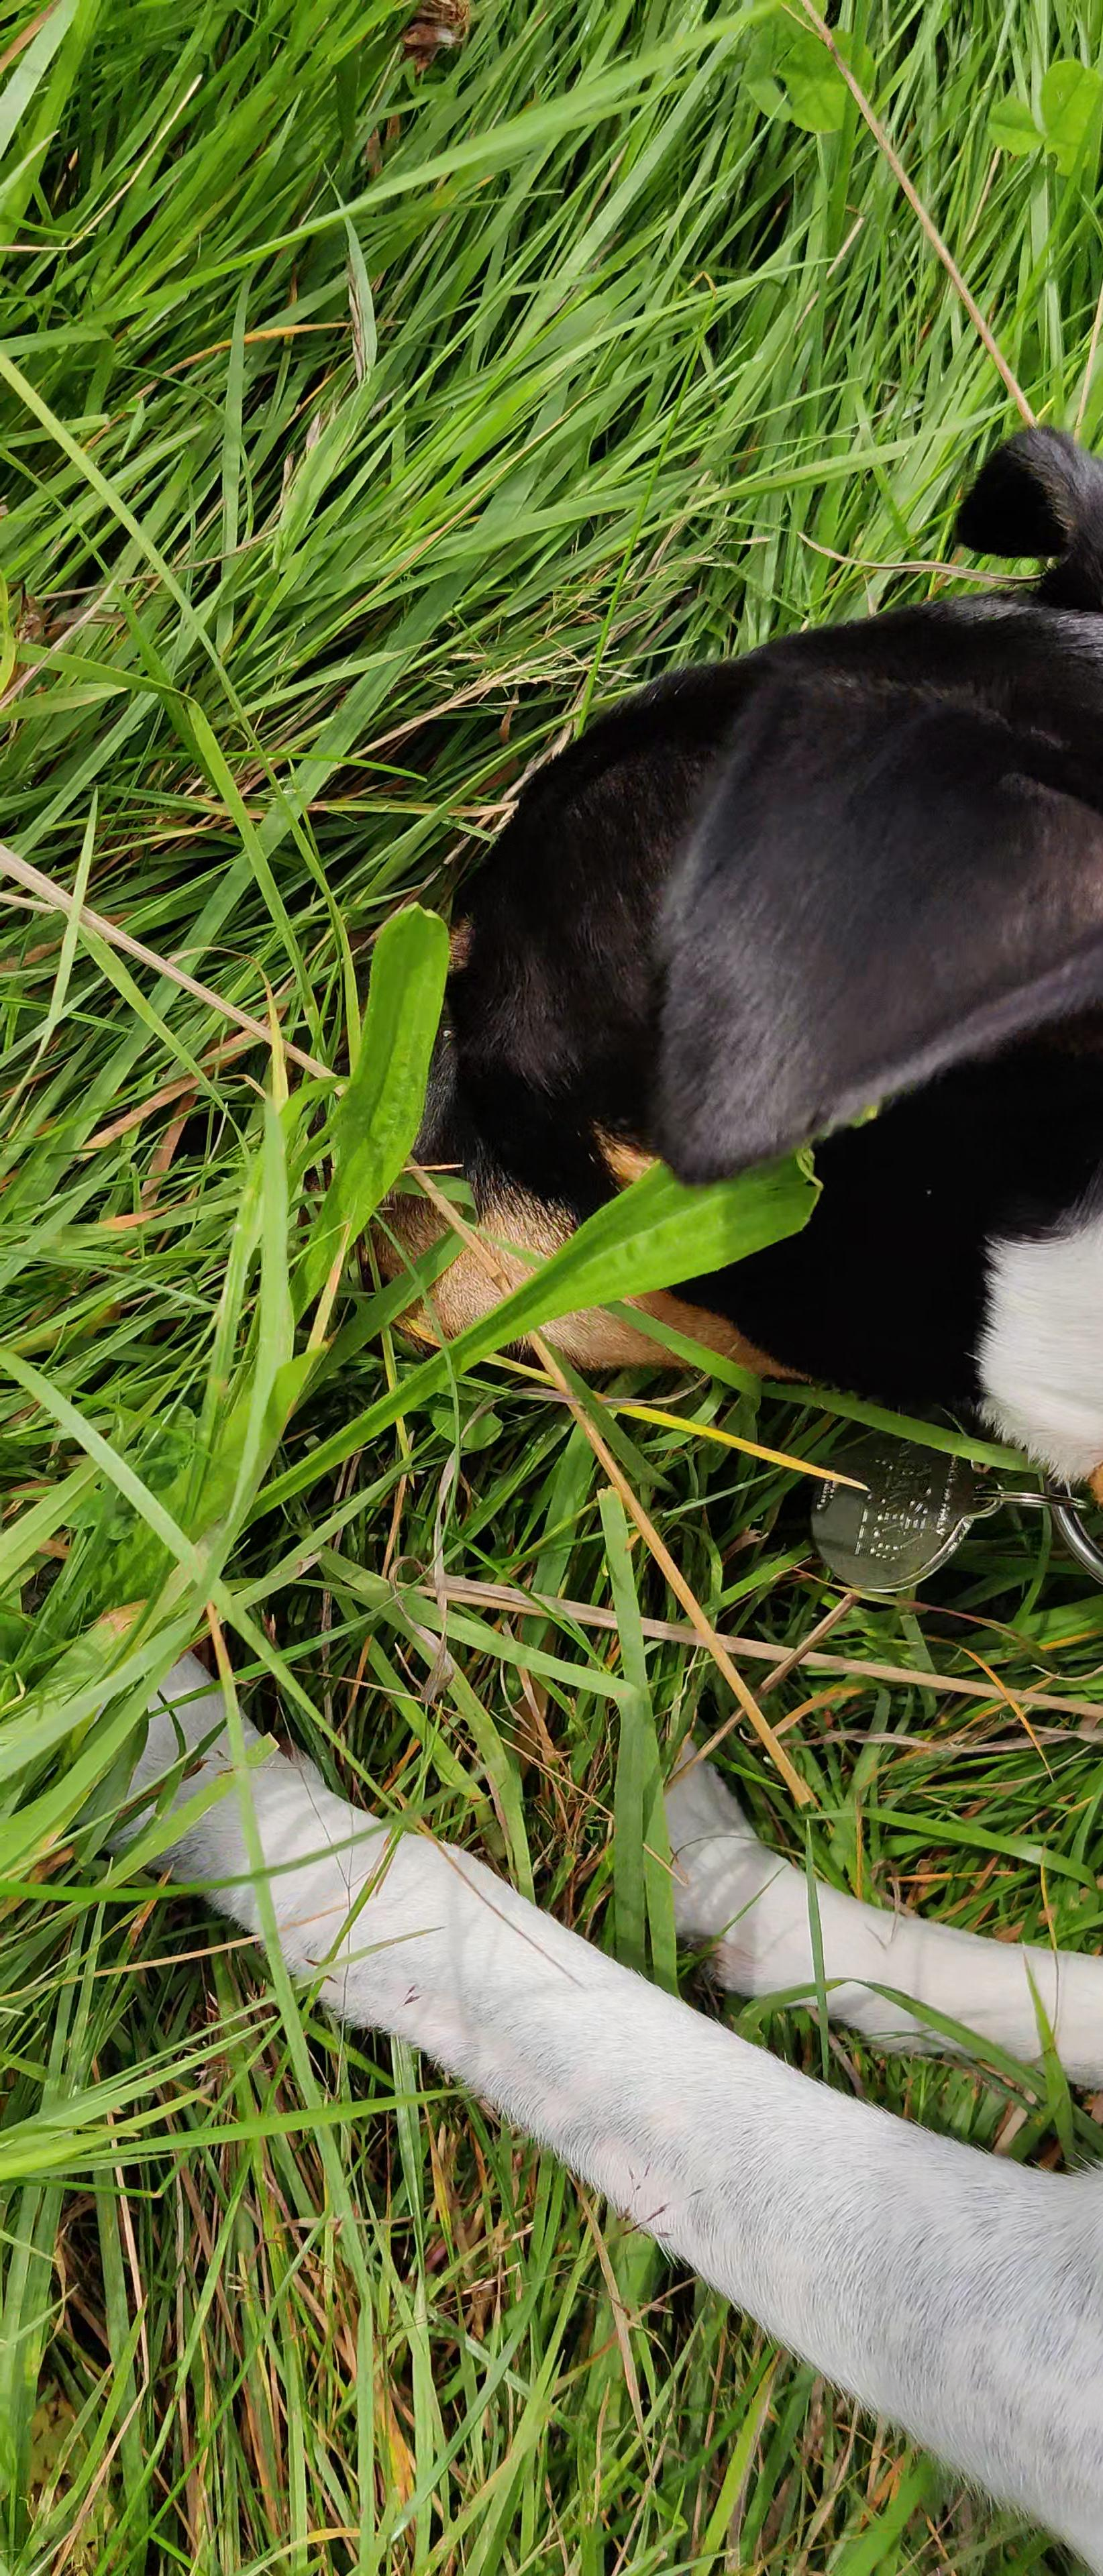Dog: (118, 402, 1103, 2576)
